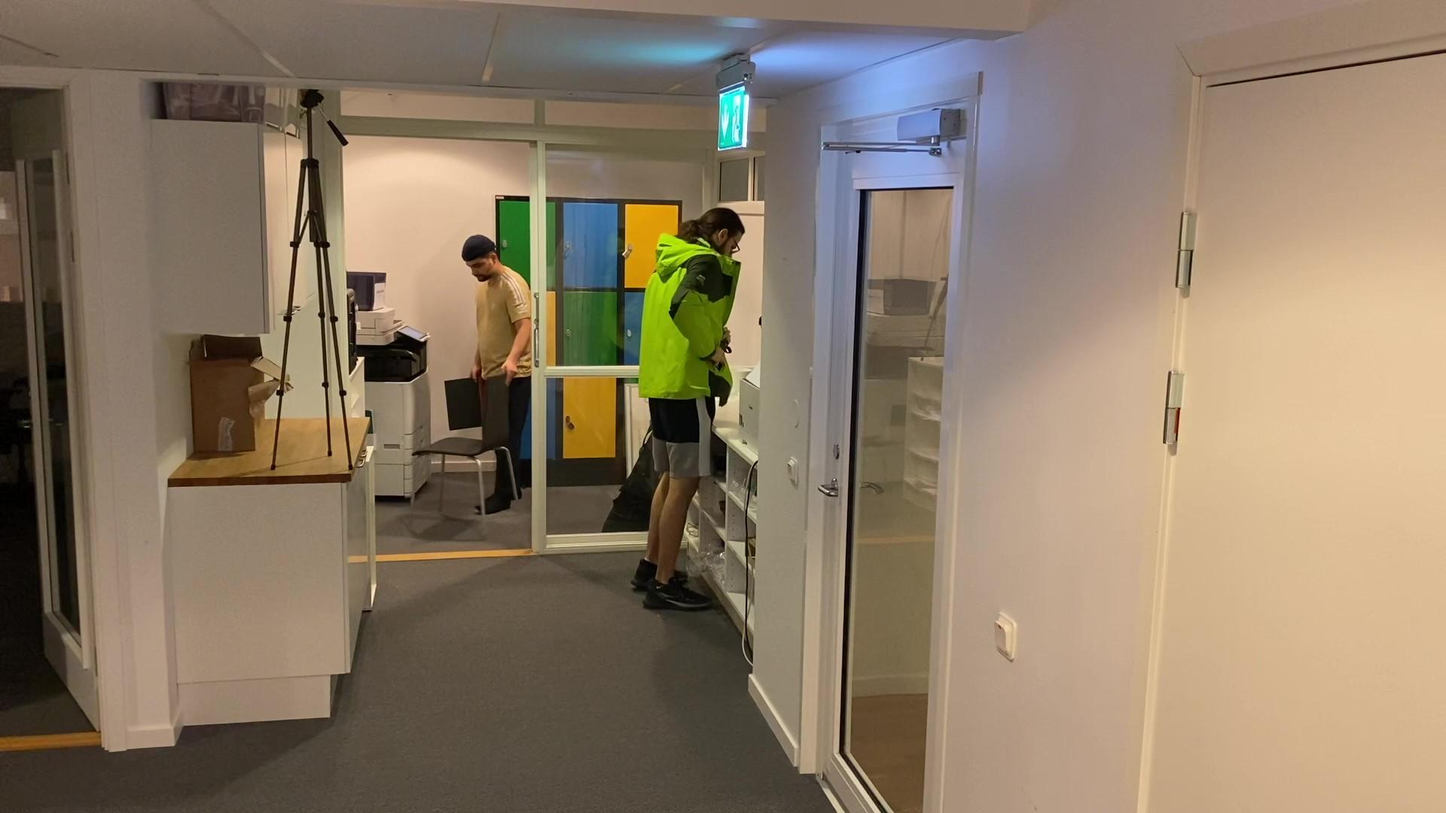Normal: (465, 236, 533, 517)
shoplifting: (642, 209, 741, 607)
